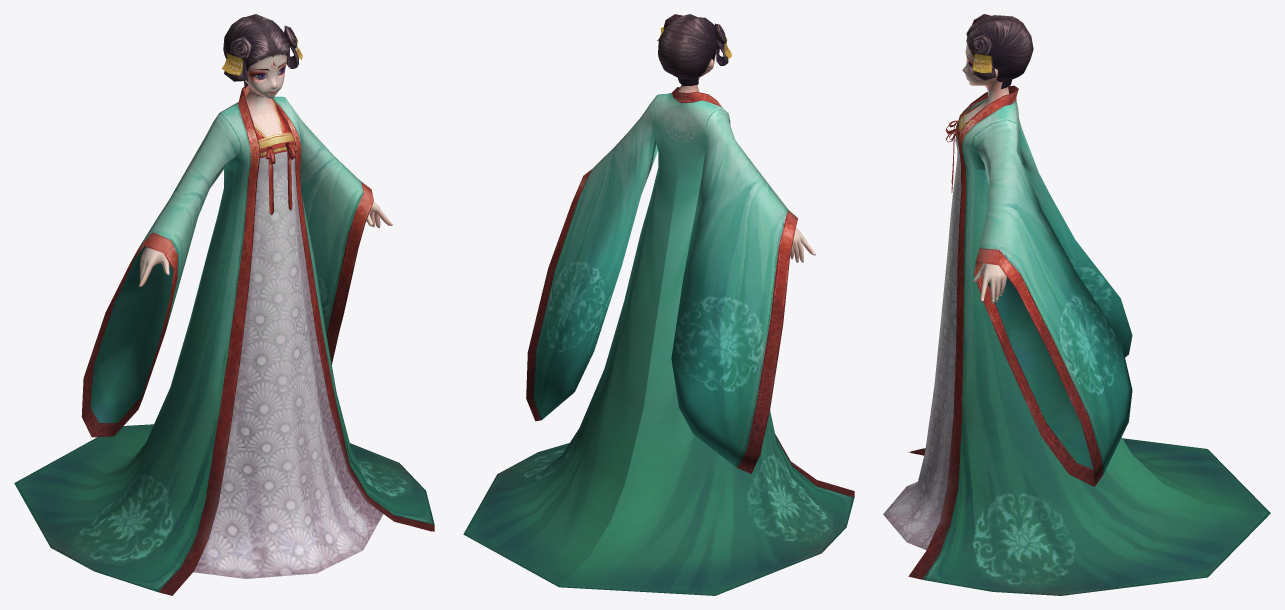
The picture shows the model from 3 angles, left to right: view 1: azimuth 30°, elevation 25°; view 2: azimuth 150°, elevation 25°; view 3: azimuth 270°, elevation 25°; orthographic projection. The views are drawn at different scales.
Parts seen in each view (by area): view 1: Npc_qingniannv_1_0; view 2: Npc_qingniannv_1_0; view 3: Npc_qingniannv_1_0.
Part boxes in pixels (left/top/right/bottom): Npc_qingniannv_1_0: left=14, top=14, right=434, bottom=595; Npc_qingniannv_1_0: left=463, top=14, right=854, bottom=595; Npc_qingniannv_1_0: left=883, top=14, right=1270, bottom=595.
Bounding box in the file's own units: 1.09 × 1.52 × 1.08.
2 materials, 2 textured.
